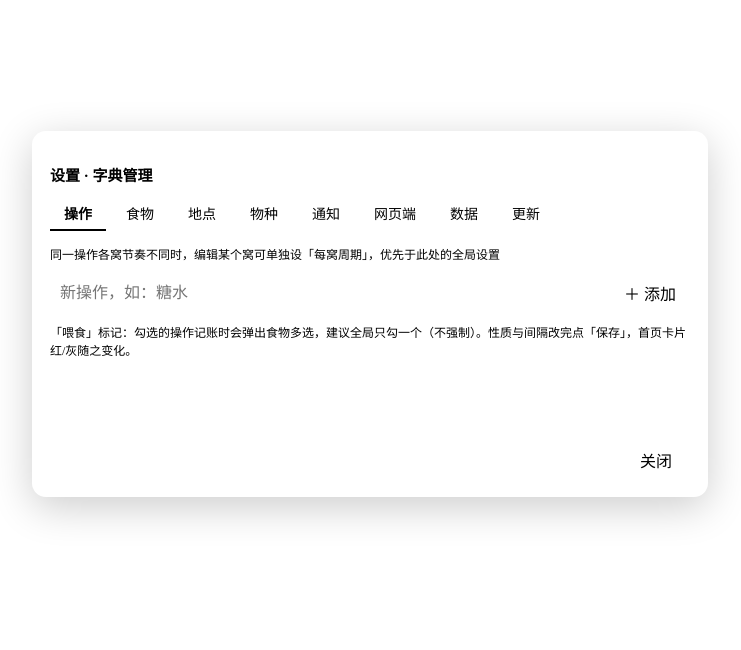
Test: 设置弹窗通知 tab Pushover 应用内配置（webui-checkin 票 11） › 「发送测试通知」按钮在通知 tab 照旧可用（验收 3：测的就是当前生效来源）
The image size is (741, 650).
What coordinates should you click on to do the following:
click the button with class "tab-notify"
I would click on:
 (326, 214)
Its box is [298, 197, 354, 231].
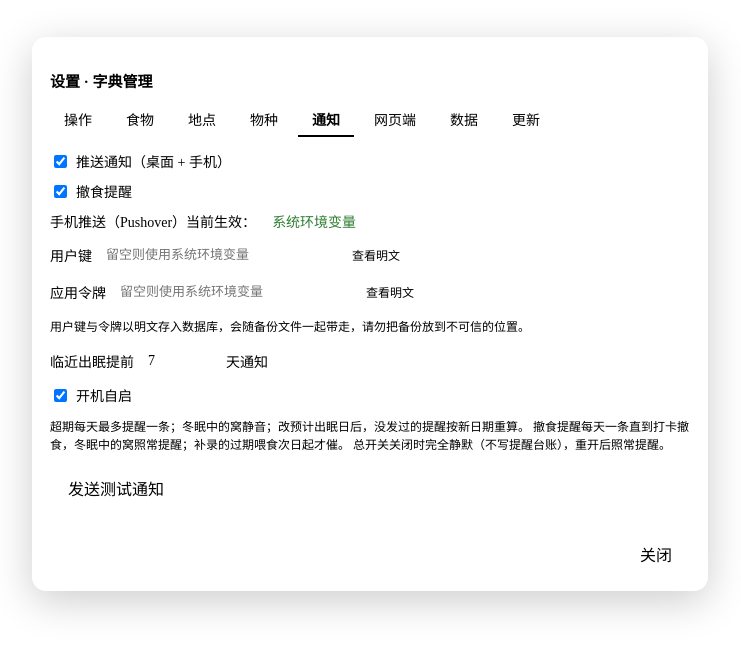
What coordinates should you click on to do the following:
click the button "发送测试通知"
I would click on:
 (116, 488)
Its box is [50, 469, 182, 507].
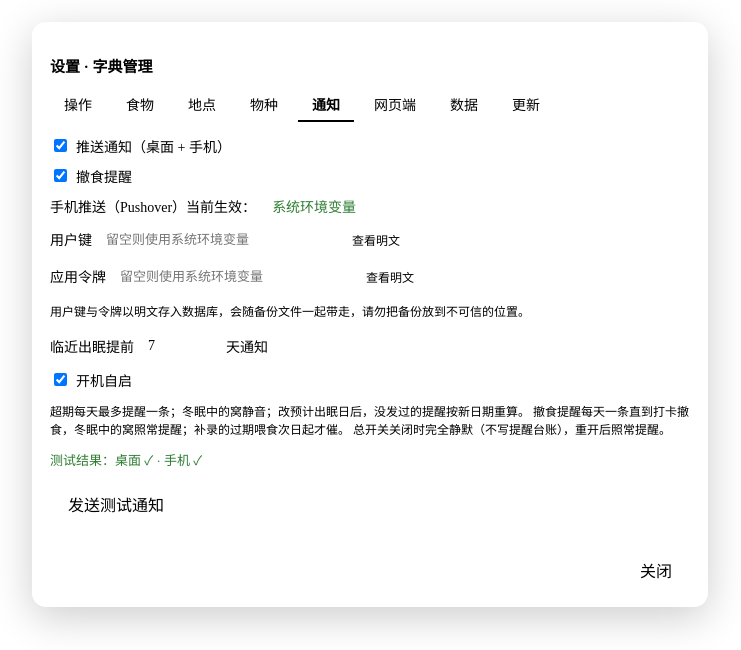
Result: the text with class "saved-hint" shows "手机 ✓" at [50, 452, 202, 468]
